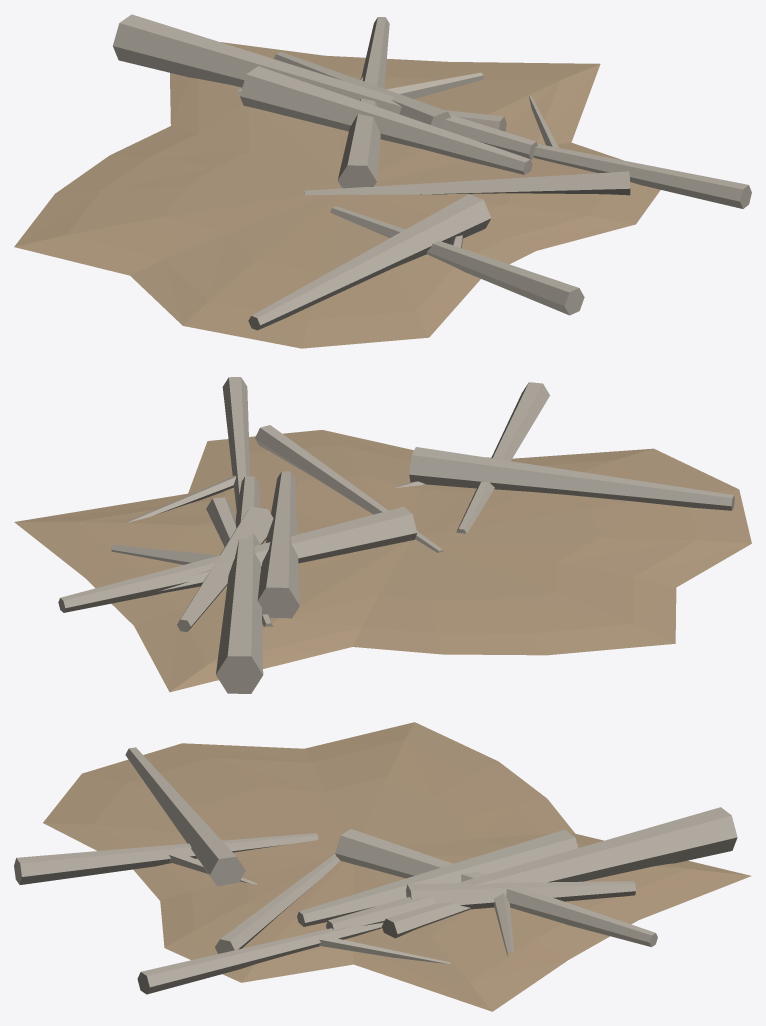
The model's file is temperate-forest-ecology-branch-scatter-564ee677__3831.glb.
3 views of the same model, one above another, from view 1: azimuth 30°, elevation 25°; view 2: azimuth 150°, elevation 25°; view 3: azimuth 270°, elevation 25° (orthographic). The views are drawn at different scales.
Visible parts, largest first — view 1: branch-scatter; view 2: branch-scatter; view 3: branch-scatter.
Part boxes in pixels (left/top/right/bottom): branch-scatter: left=14, top=14, right=751, bottom=348; branch-scatter: left=14, top=377, right=751, bottom=693; branch-scatter: left=14, top=722, right=751, bottom=1011.
Size of the model in its own units: 2.63 by 0.1621 by 2.83.
